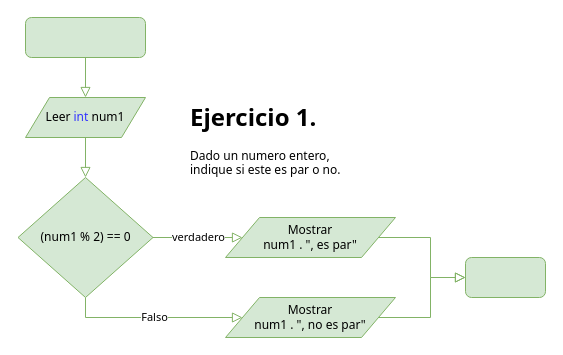
Some shapes in this 563 by 355 pixel diagram are drawn without their labels. The shapes that lost their labels are listed below. From the top down, each one's centre as x and y in pixels, then its label:
At (85,37): "Inicio".
At (505,277): "Fin".
